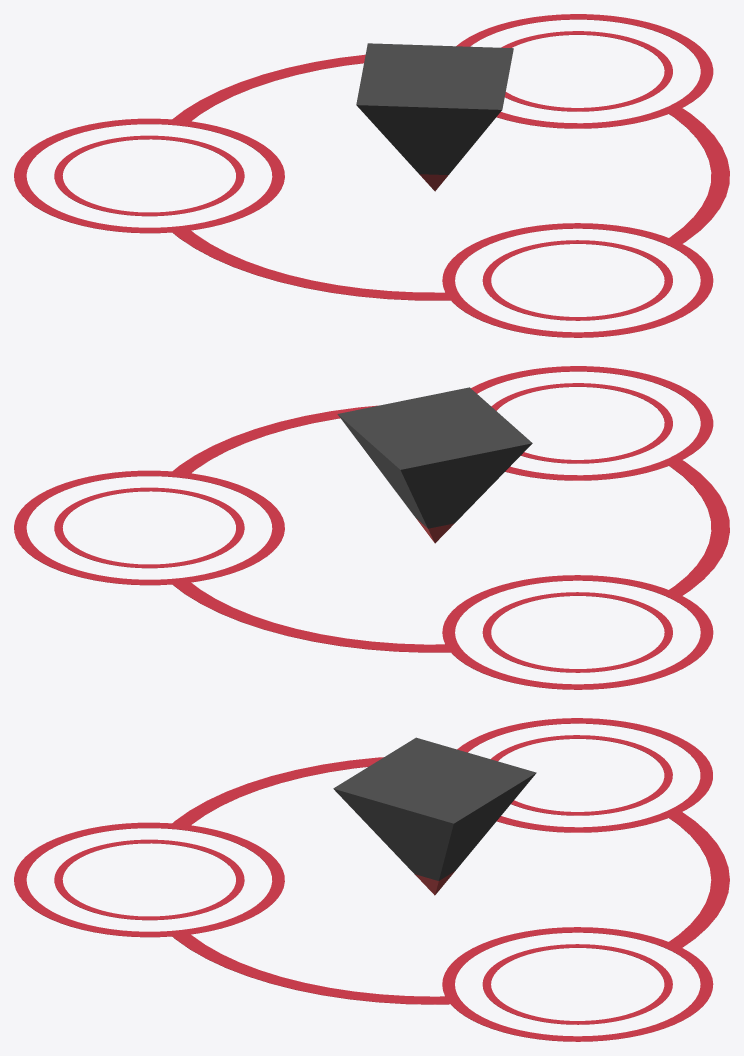
File: Maki.fbx
3 renders of one model, top to bottom at view 1: azimuth 30°, elevation 25°; view 2: azimuth 150°, elevation 25°; view 3: azimuth 270°, elevation 25°, orthographic.
Parts seen in each view (by area): view 1: 円.001, 円錐; view 2: 円.001, 円錐; view 3: 円.001, 円錐.
Boxes of the visible parts, x1,y1,x2,y2 form: 円.001: (14, 14, 729, 337); 円錐: (356, 43, 513, 191); 円.001: (14, 366, 729, 689); 円錐: (337, 387, 532, 543); 円.001: (14, 718, 729, 1041); 円錐: (333, 737, 536, 895).
Bounding box in the file's own units: 36.64 × 6.07 × 34.27.
